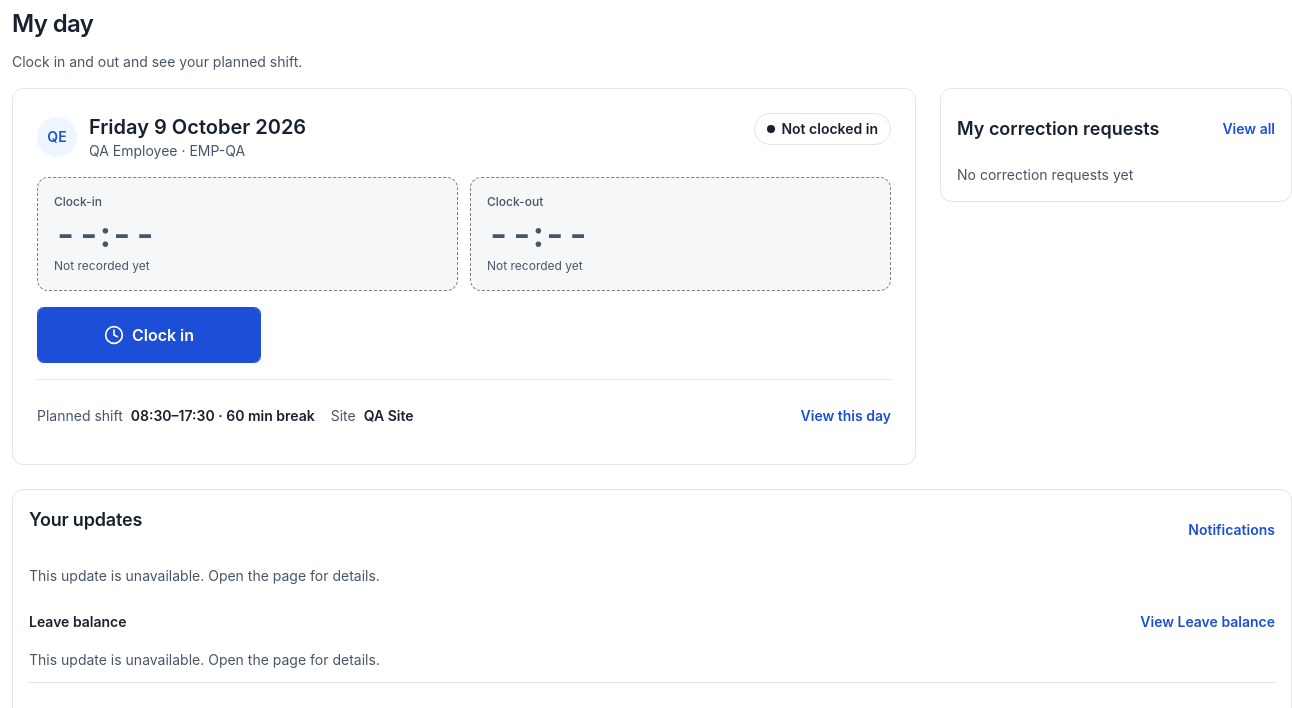
Test: allows navigation after an uncertain clock response while retaining its exact retry
Click the button with test id "hr-clock-action" at [149, 335], box left=37, top=307, right=261, bottom=363
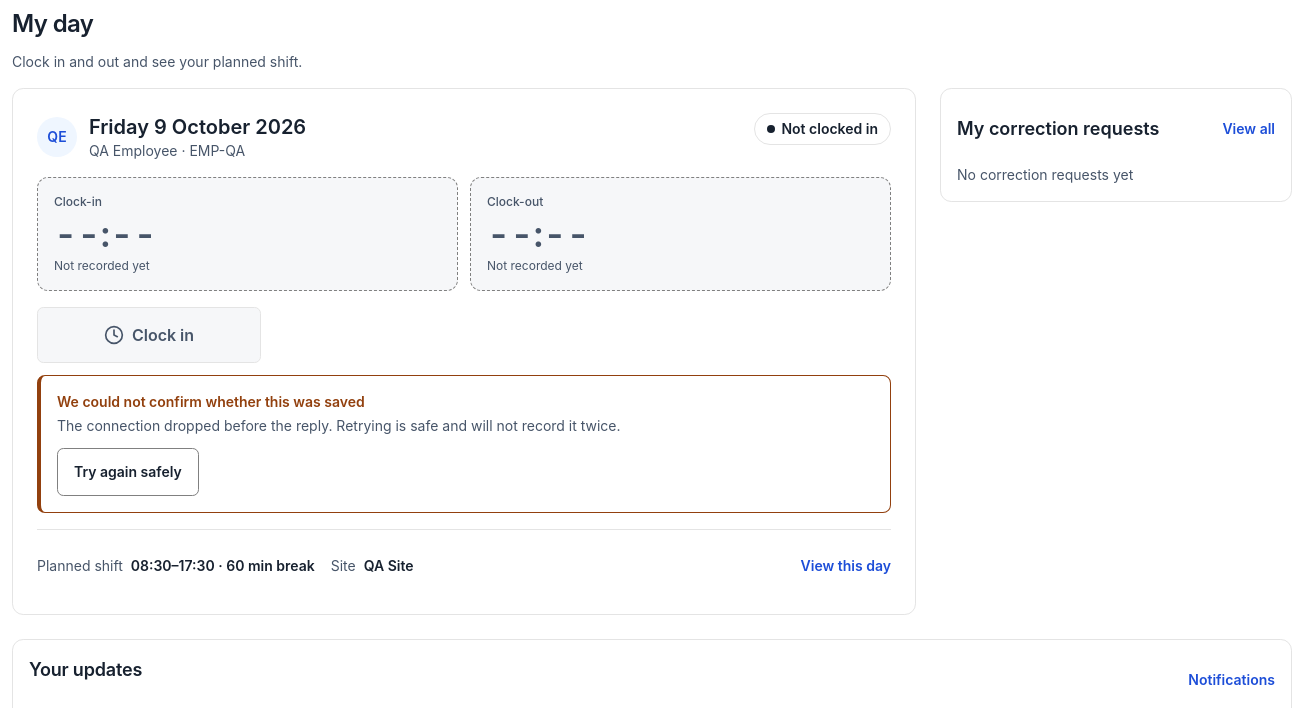
Click the button "Try again safely" at [128, 472], box left=57, top=448, right=199, bottom=496
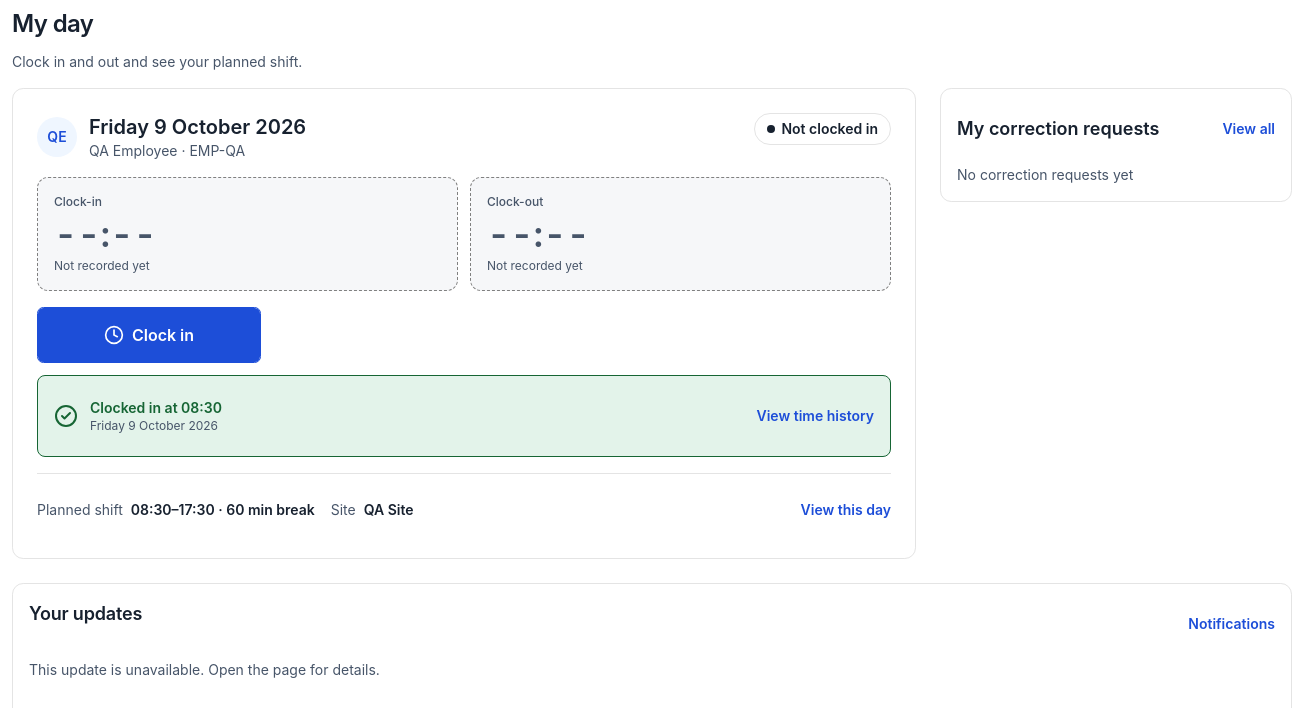
Check: the message "Clocked in at 08:30 Friday 9 October 2026 View time history" is shown, box left=37, top=375, right=891, bottom=457
